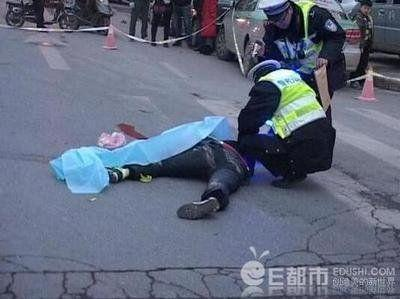Fall-Detected: (92, 116, 265, 220)
